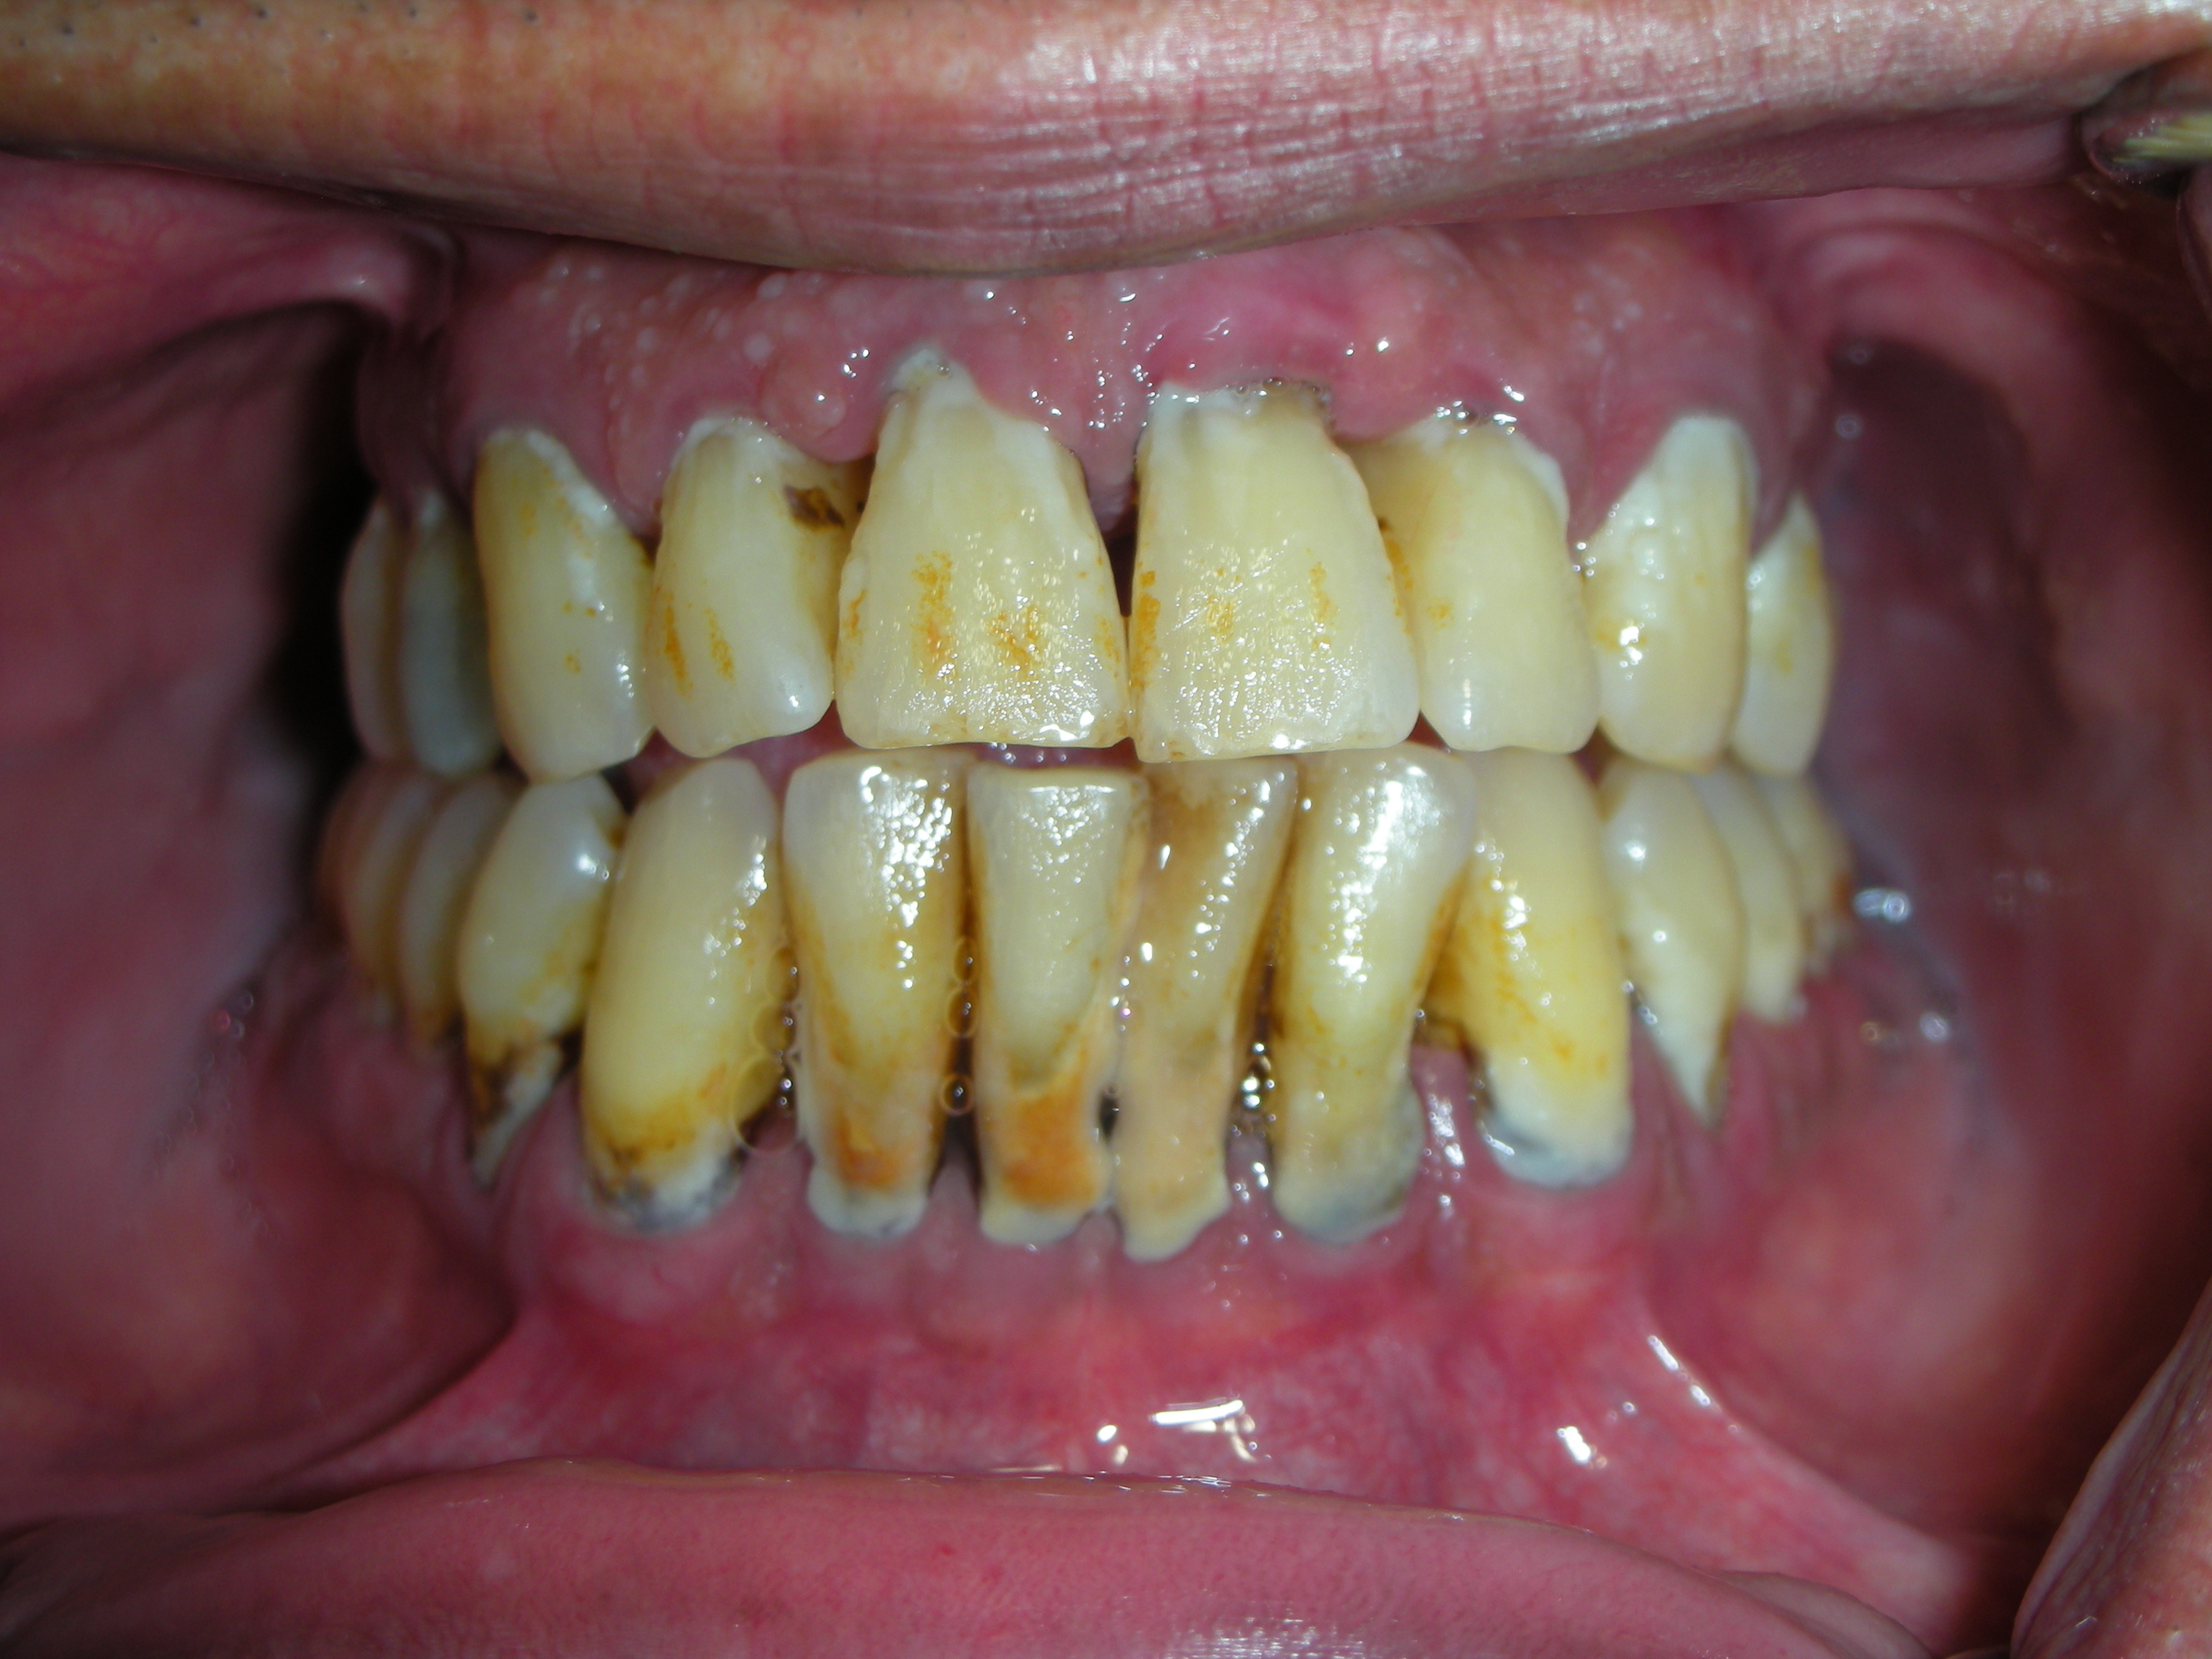LL1BC_decay: (1597, 779, 1745, 1101)
LL2BC_decay: (1728, 798, 1822, 1026)
LLCI_decay: (1137, 755, 1271, 1256)
LLC_decay: (1458, 767, 1649, 1185)
LLLI_decay: (1270, 770, 1454, 1267)
LR1BC_decay: (453, 786, 596, 1182)
LRCI_decay: (963, 767, 1141, 1267)
LRC_decay: (594, 781, 791, 1202)
LRLI_decay: (763, 758, 979, 1248)
UL1BC_decay: (1740, 488, 1843, 796)
ULCI_decay: (1123, 380, 1426, 765)
ULC_decay: (1592, 418, 1745, 772)
ULLI_decay: (1393, 418, 1604, 765)
UR1BC_decay: (380, 507, 502, 777)
URCI_decay: (831, 342, 1123, 770)
URC_decay: (469, 430, 662, 786)
URLI_decay: (634, 427, 850, 753)
